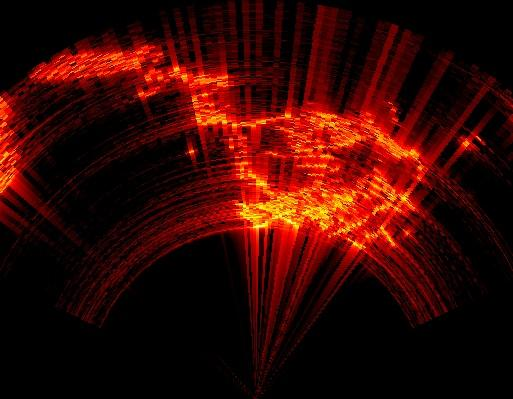shipwreck: (30, 52, 425, 248)
